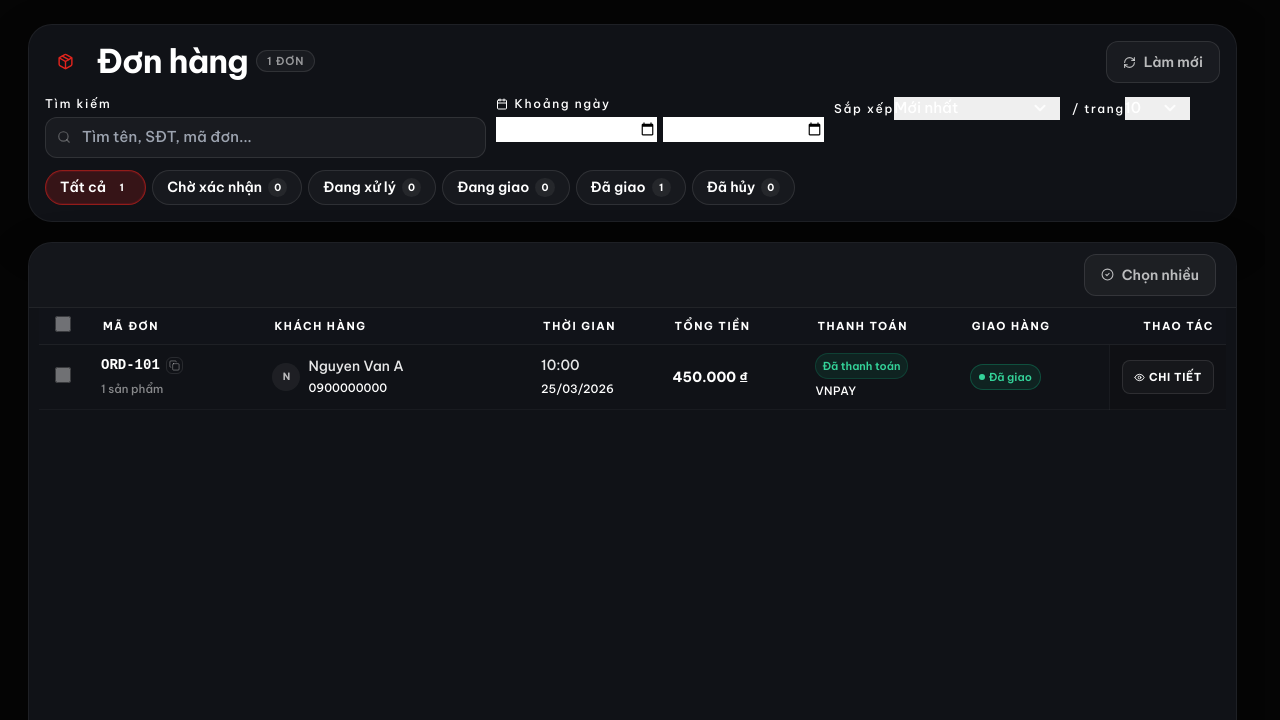
Test: Admin Orders page › shows the bulk toolbar after selecting an order on the current page
Expected: the text "Đã chọn 1 đơn" is not shown
Click the checkbox named "Chọn đơn ORD-101".
click(63, 374)  # box [55, 366, 71, 382]
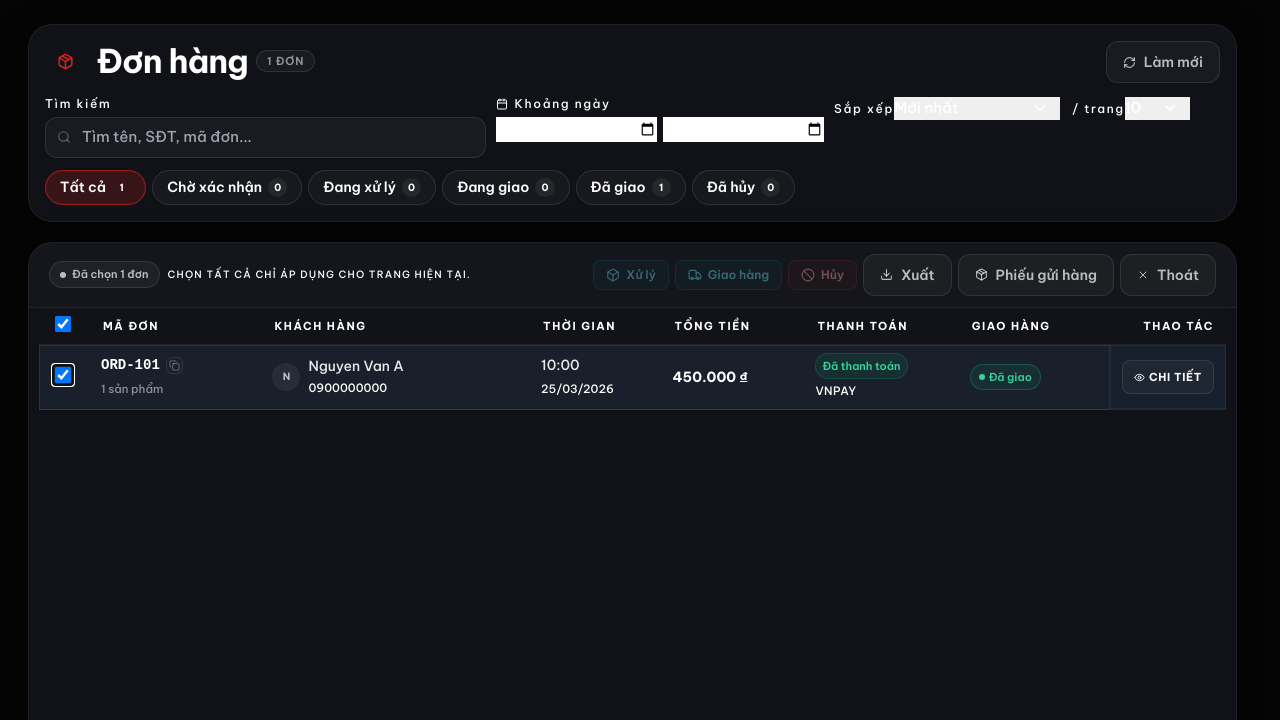
Result: the text "Đã chọn 1 đơn" is shown at [49, 261, 160, 288]
Result: the button "Xuất" is shown at [863, 254, 952, 296]
Result: the button "Xử lý" is shown at [593, 260, 669, 290]
